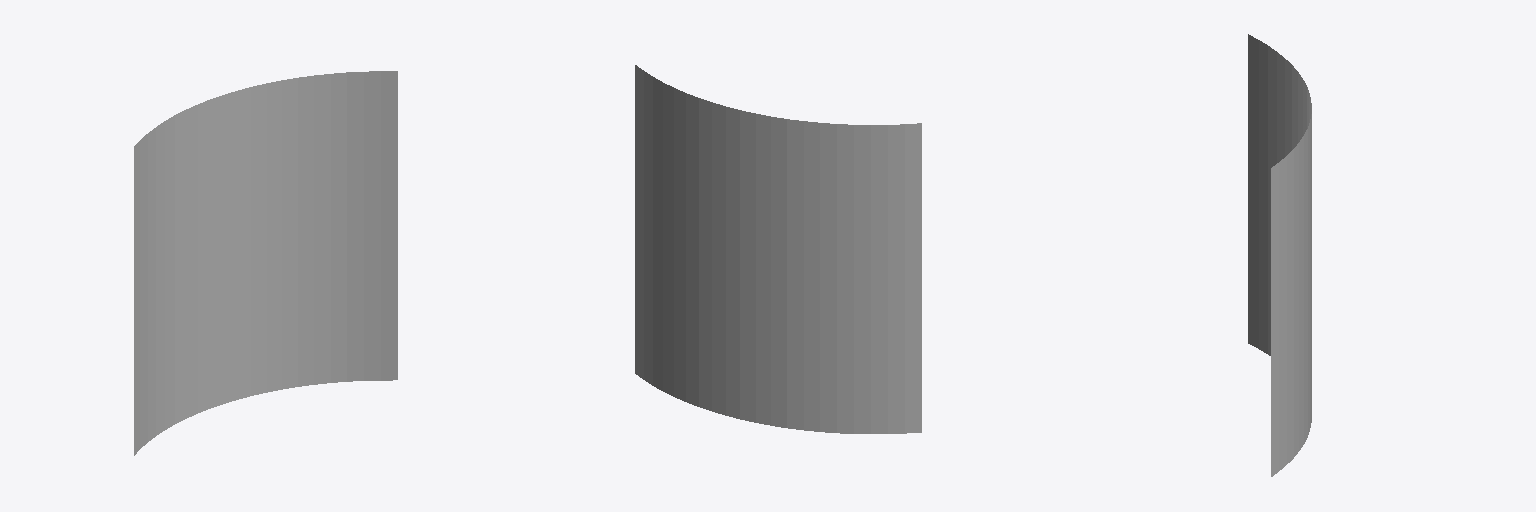
File: ProductPlane.obj
3 views of the same model, side by side, from view 1: azimuth 30°, elevation 25°; view 2: azimuth 150°, elevation 25°; view 3: azimuth 270°, elevation 25° (orthographic).
Visible parts, largest first — view 1: Circle.2_price.1; view 2: Circle.2_price.1; view 3: Circle.2_price.1.
Boxes of the visible parts, box(x1,y1,x2,y2) form: Circle.2_price.1: box(134, 71, 397, 455); Circle.2_price.1: box(635, 65, 921, 433); Circle.2_price.1: box(1248, 34, 1311, 476).
Size of the model in its own units: 306 by 328 by 61.57.